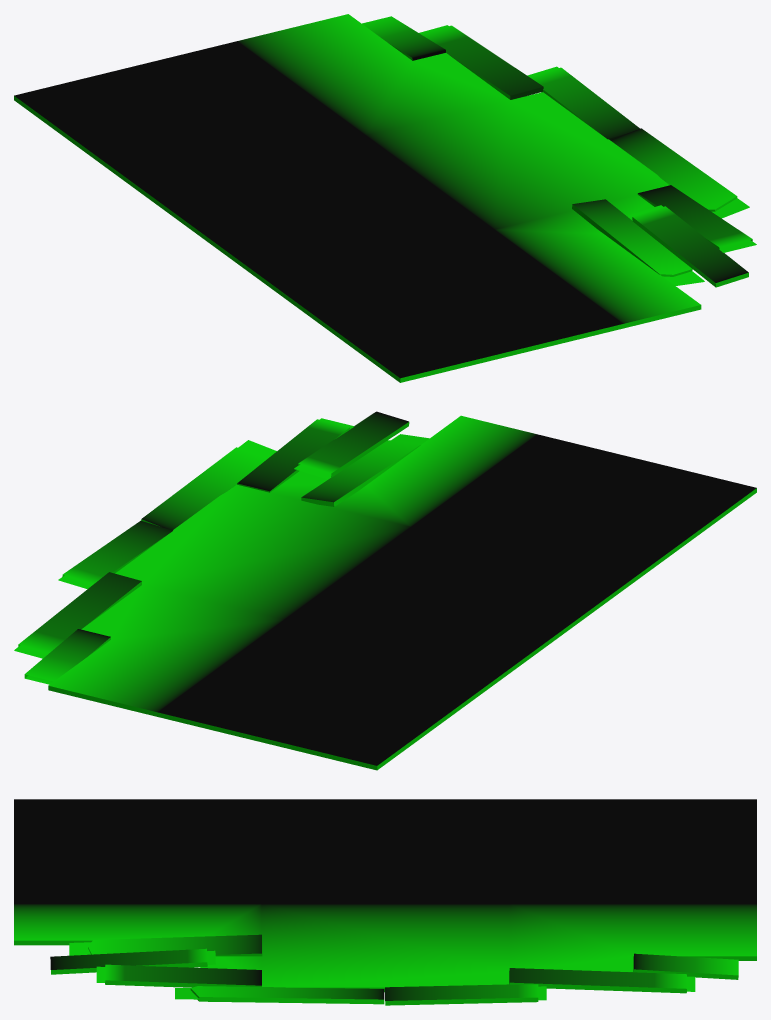
Rendered from DBK_WoodFloor_Side_C.fbx.
3 renders of one model, top to bottom at view 1: azimuth 30°, elevation 25°; view 2: azimuth 150°, elevation 25°; view 3: azimuth 270°, elevation 25°, orthographic. The views are drawn at different scales.
Visible parts, largest first — view 1: DBK_WoodFloor_Side_C; view 2: DBK_WoodFloor_Side_C; view 3: DBK_WoodFloor_Side_C.
Boxes of the visible parts, x1,y1,x2,y2 form: DBK_WoodFloor_Side_C: (14,14,756,382); DBK_WoodFloor_Side_C: (14,411,756,770); DBK_WoodFloor_Side_C: (14,799,756,1005).
Size of what is drawn, in the model's own units: 195 by 7.46 by 300.
